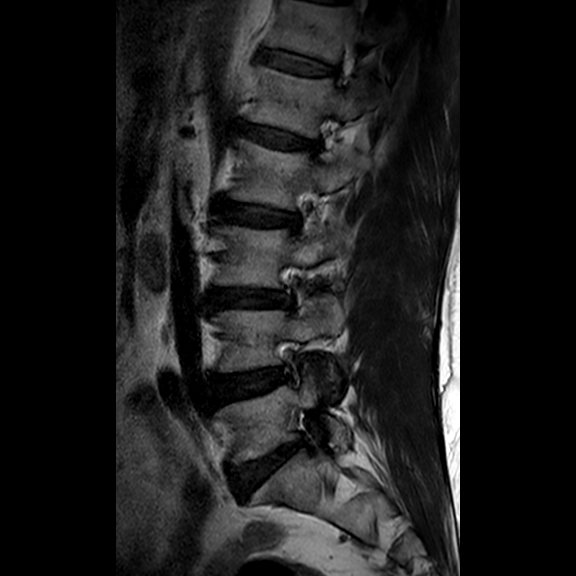RFS2: (266, 329, 312, 400), (267, 257, 314, 325)
